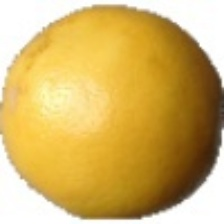grapes: (25, 40, 165, 213)
